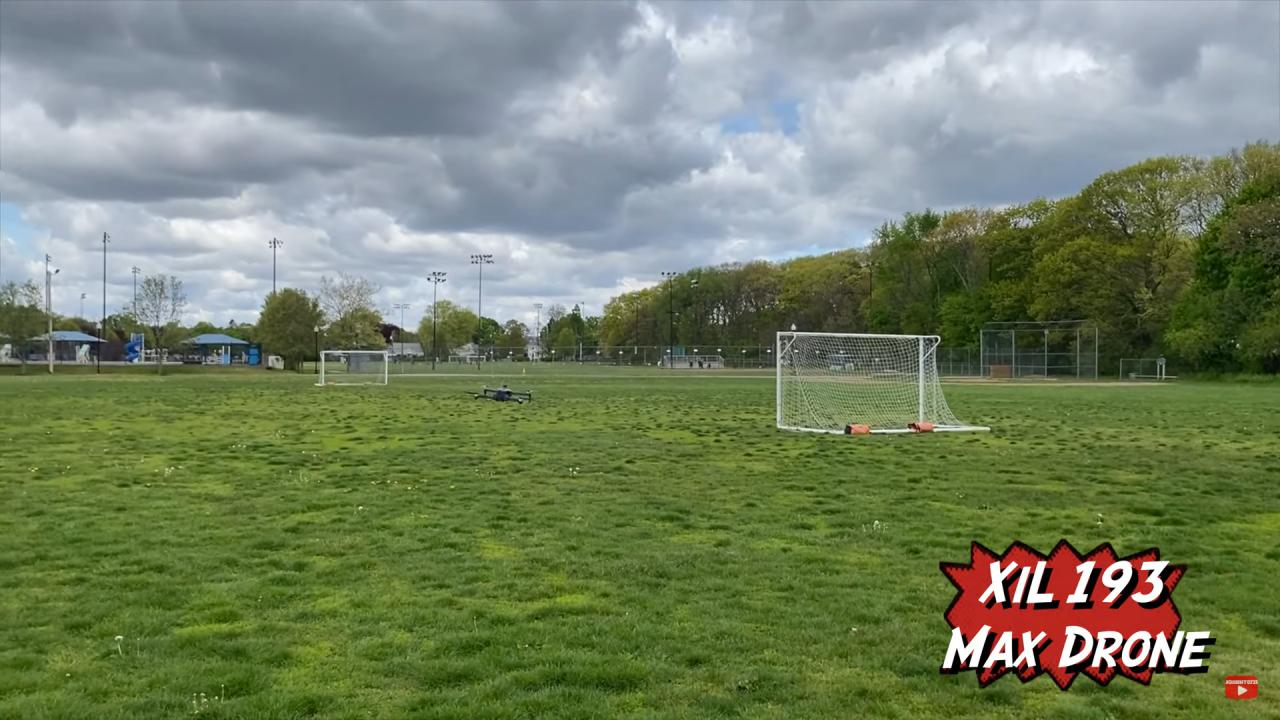Drone: (458, 380, 545, 411)
